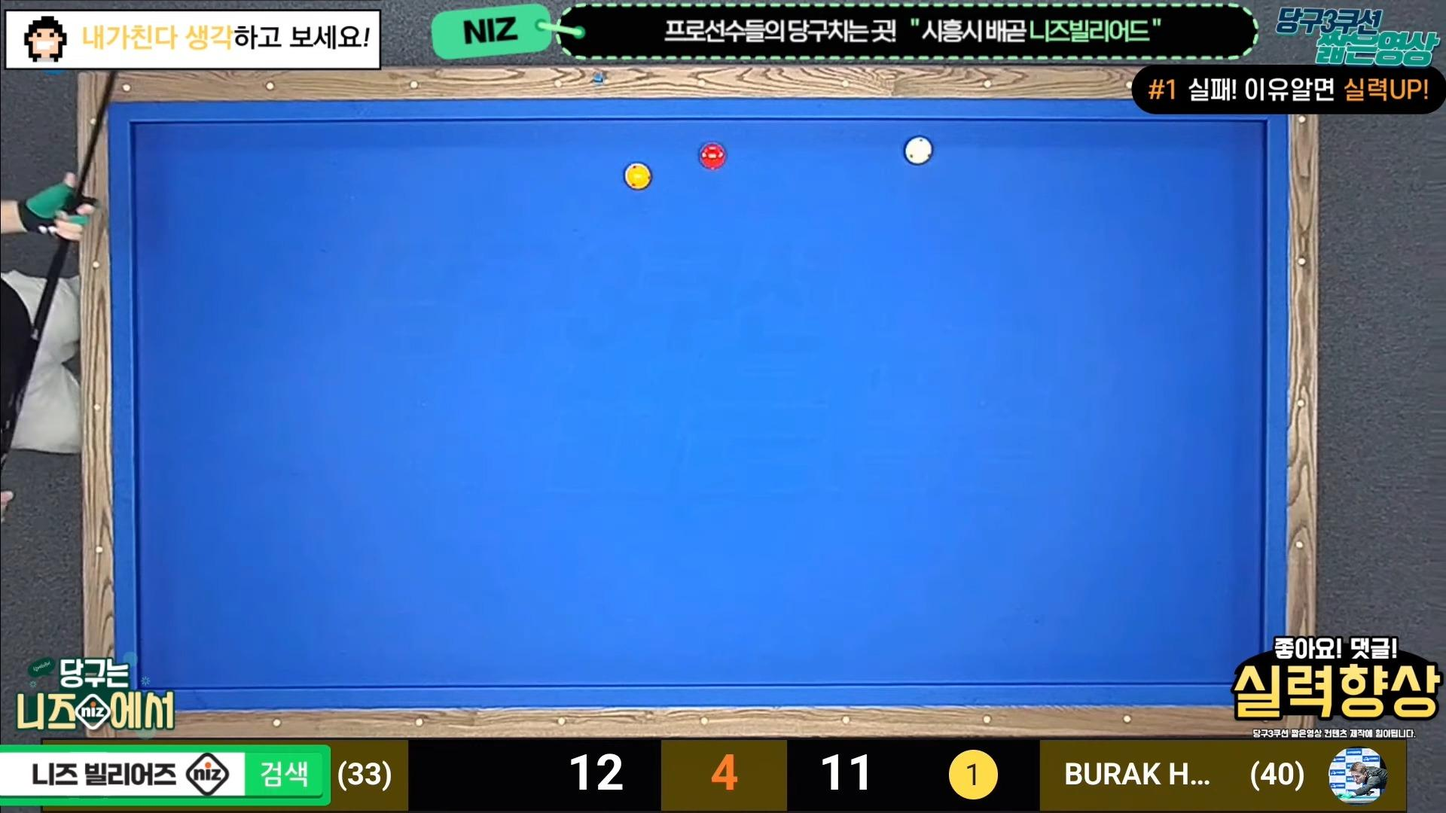Red: (699, 141, 731, 170)
White: (905, 136, 939, 165)
Yellow: (623, 162, 655, 192)
